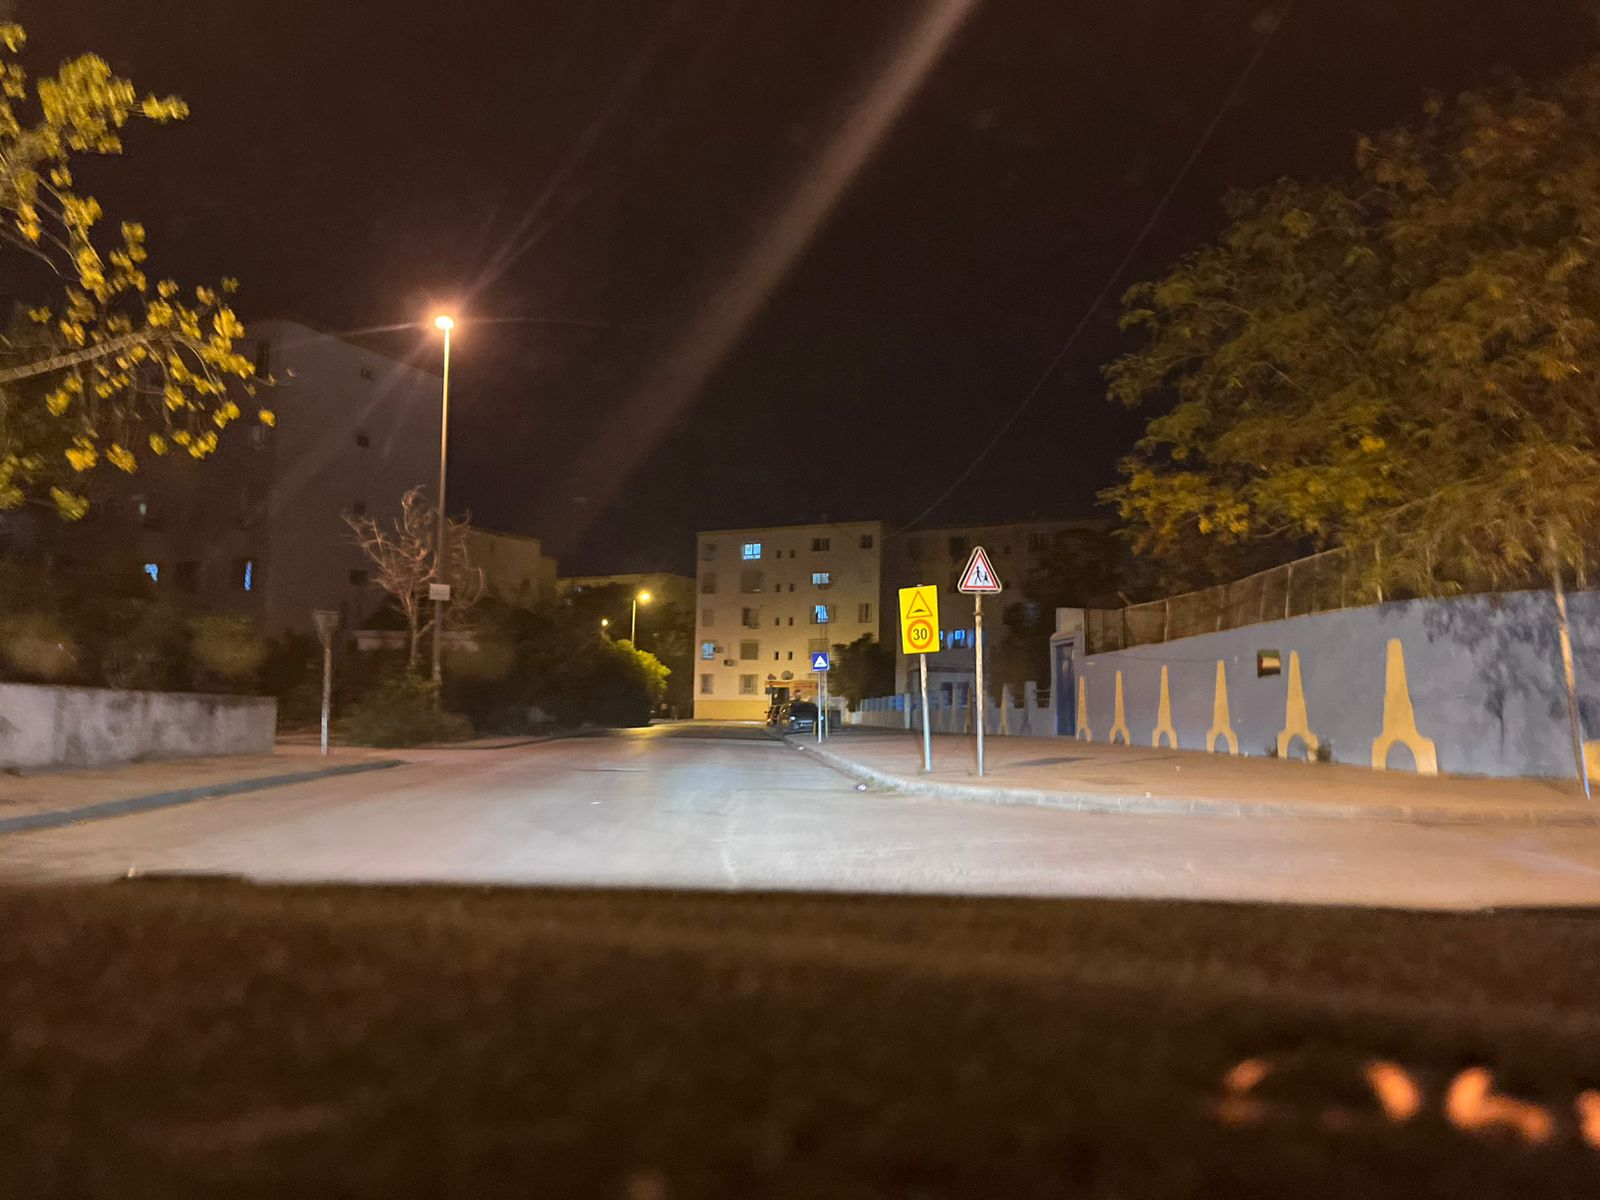SpeedLimit30: (898, 584, 940, 655)
